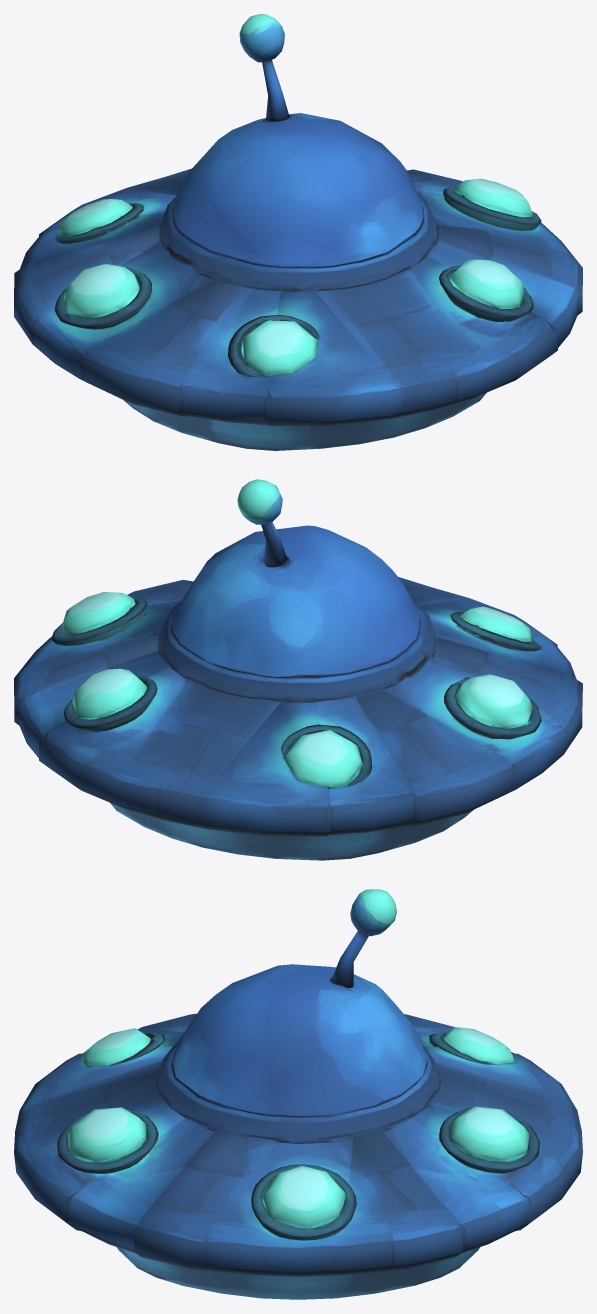
File: ufo-body.glb
The picture shows the model from 3 angles, top to bottom: view 1: azimuth 30°, elevation 25°; view 2: azimuth 150°, elevation 25°; view 3: azimuth 270°, elevation 25°; orthographic projection.
Visible parts, largest first — view 1: tripo_node_e9a6bc76-2154-43f8-a71a-92c294026b32; view 2: tripo_node_e9a6bc76-2154-43f8-a71a-92c294026b32; view 3: tripo_node_e9a6bc76-2154-43f8-a71a-92c294026b32.
Part boxes in pixels (x1,y1,x2,y2): tripo_node_e9a6bc76-2154-43f8-a71a-92c294026b32: (14, 14, 582, 450); tripo_node_e9a6bc76-2154-43f8-a71a-92c294026b32: (14, 479, 582, 860); tripo_node_e9a6bc76-2154-43f8-a71a-92c294026b32: (14, 889, 582, 1299).
Bounding box in the file's own units: 2.2 × 1.4 × 2.2.
Materials: 1 (1 with a texture image).
